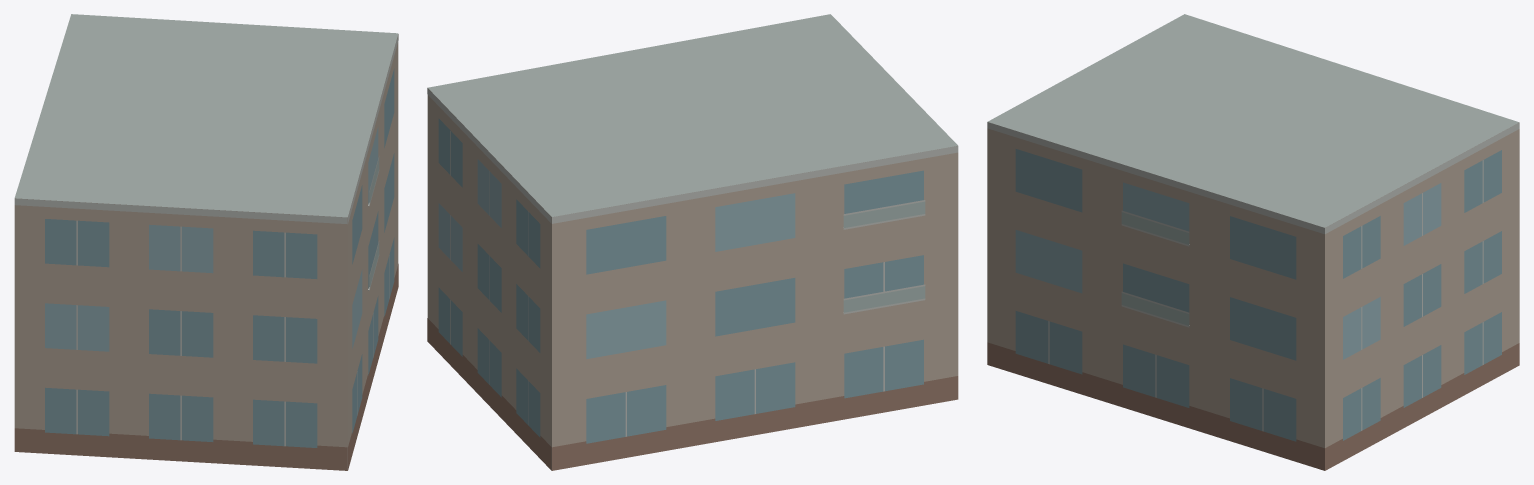
File: survey-upis-32638147.glb
3 renders of one model, left to right at view 1: azimuth 30°, elevation 25°; view 2: azimuth 150°, elevation 25°; view 3: azimuth 270°, elevation 25°, orthographic. The views are drawn at different scales.
Visible parts, largest first — view 1: survey-upis-32638147.tmp; view 2: survey-upis-32638147.tmp; view 3: survey-upis-32638147.tmp.
Boxes of the visible parts, x1,y1,x2,y2 form: survey-upis-32638147.tmp: (14, 14, 398, 470); survey-upis-32638147.tmp: (427, 14, 958, 470); survey-upis-32638147.tmp: (987, 14, 1519, 470).
Size of the model in its own units: 17.28 by 9.15 by 18.17.
